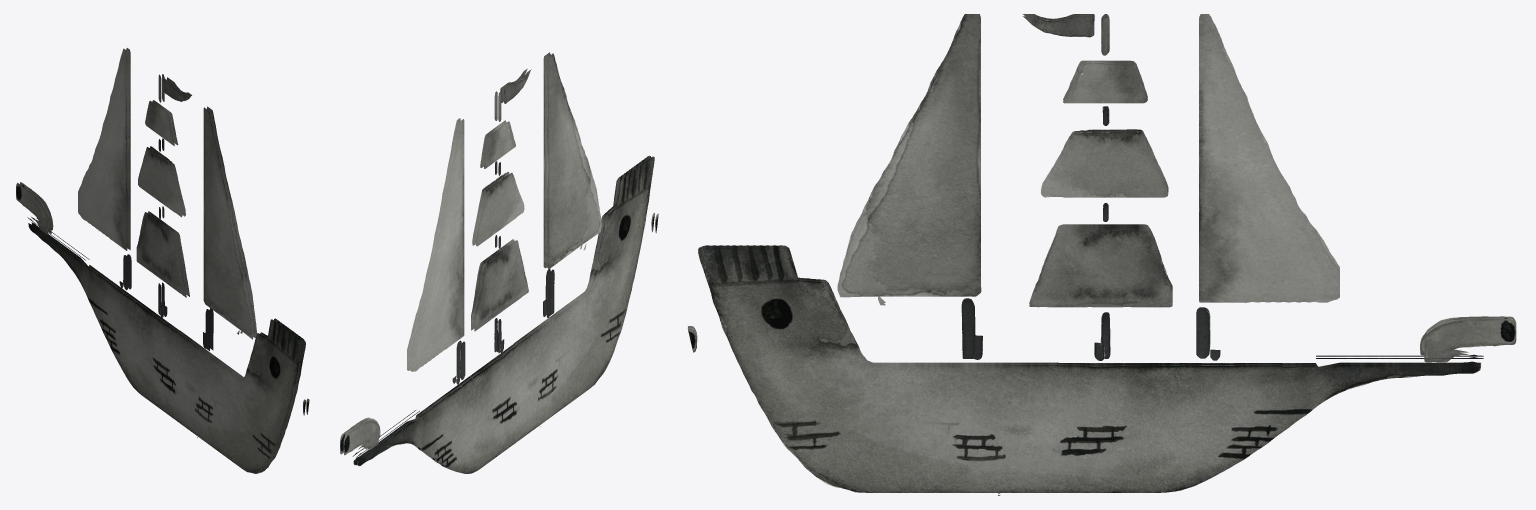
The model's file is BigShip.FBX.
3 views of the same model, side by side, from view 1: azimuth 30°, elevation 25°; view 2: azimuth 150°, elevation 25°; view 3: azimuth 270°, elevation 25° (orthographic). The views are drawn at different scales.
Parts seen in each view (by area): view 1: Cannon, BackSail, FrontSail, MainSail; view 2: Cannon, BackSail, FrontSail, MainSail; view 3: Cannon, BackSail, FrontSail, MainSail.
Boxes of the visible parts, x1,y1,x2,y2 form: Cannon: [16, 182, 309, 473]; BackSail: [203, 106, 256, 350]; FrontSail: [78, 48, 131, 290]; MainSail: [136, 74, 191, 314]; Cannon: [340, 155, 658, 473]; BackSail: [543, 52, 601, 315]; FrontSail: [407, 118, 465, 379]; MainSail: [471, 68, 531, 352]; Cannon: [687, 245, 1516, 495]; BackSail: [837, 14, 981, 358]; FrontSail: [1196, 14, 1339, 358]; MainSail: [1023, 14, 1172, 358].
Bounding box in the file's own units: 1.98 × 190 × 299.
